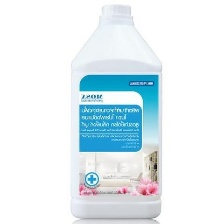cleaning_solution: (66, 2, 165, 221)
